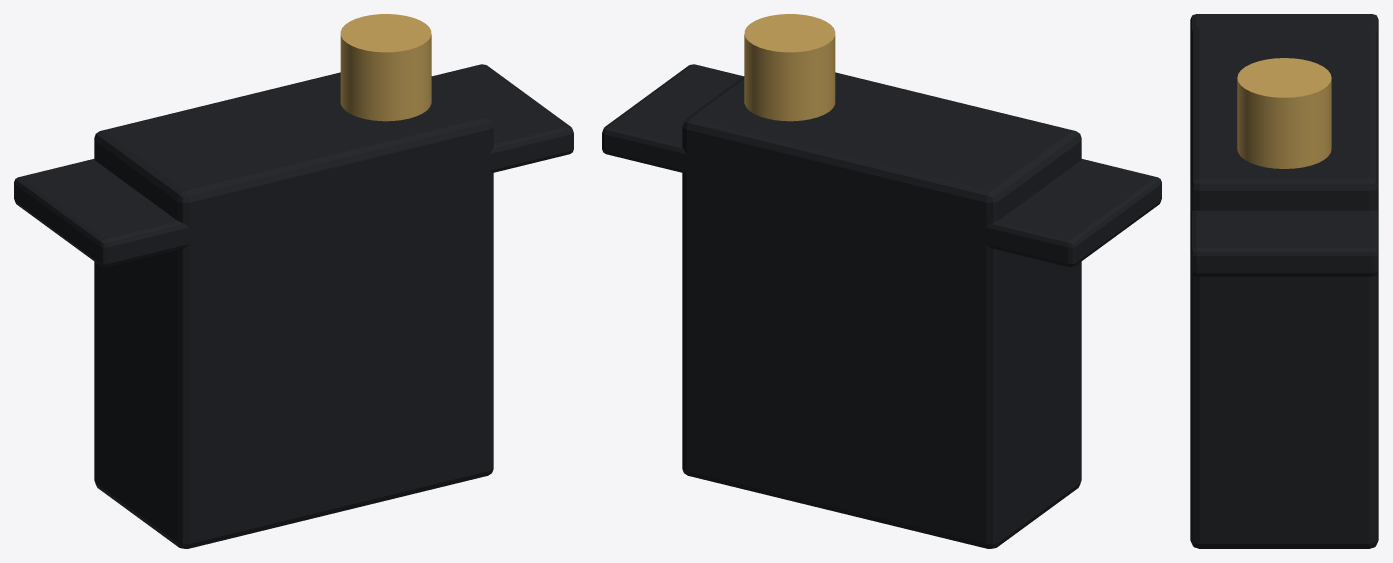
Rendered from servo_metal_gear_mg92b.glb.
The picture shows the model from 3 angles, left to right: view 1: azimuth 30°, elevation 25°; view 2: azimuth 150°, elevation 25°; view 3: azimuth 270°, elevation 25°; orthographic projection. The views are drawn at different scales.
Visible parts, largest first — view 1: part_servo_metal_gear_mg92b__black_polymer, part_servo_metal_gear_mg92b__brass; view 2: part_servo_metal_gear_mg92b__black_polymer, part_servo_metal_gear_mg92b__brass; view 3: part_servo_metal_gear_mg92b__black_polymer, part_servo_metal_gear_mg92b__brass.
Boxes of the visible parts, bbox=[...] form: part_servo_metal_gear_mg92b__black_polymer: bbox=[14, 64, 573, 548]; part_servo_metal_gear_mg92b__brass: bbox=[340, 14, 431, 121]; part_servo_metal_gear_mg92b__black_polymer: bbox=[602, 64, 1161, 548]; part_servo_metal_gear_mg92b__brass: bbox=[744, 14, 835, 121]; part_servo_metal_gear_mg92b__black_polymer: bbox=[1190, 14, 1378, 548]; part_servo_metal_gear_mg92b__brass: bbox=[1237, 58, 1331, 168].
Size of the model in its own units: 0.036 by 0.031 by 0.012.
